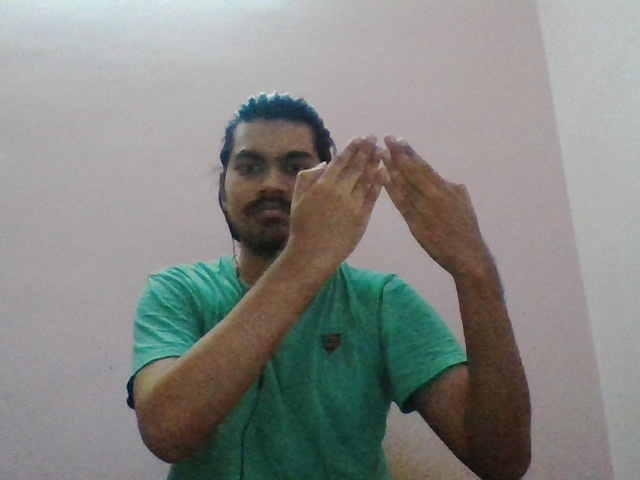ThankYou: (291, 132, 492, 273)
